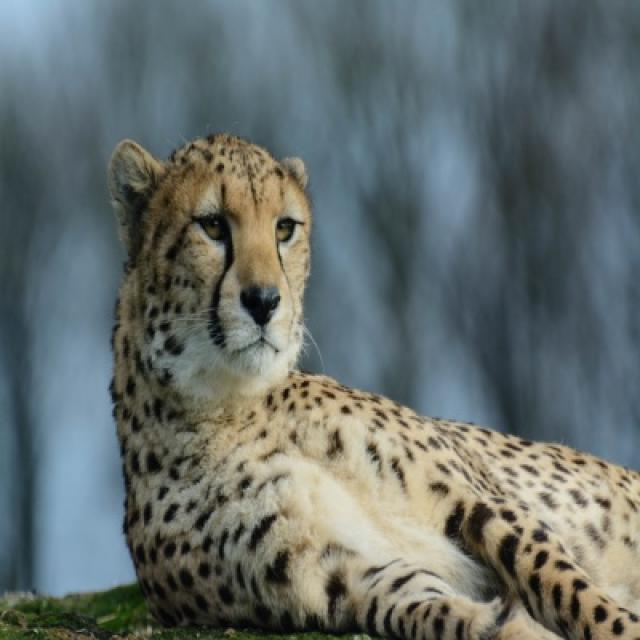Cheetah: (106, 133, 638, 638)
